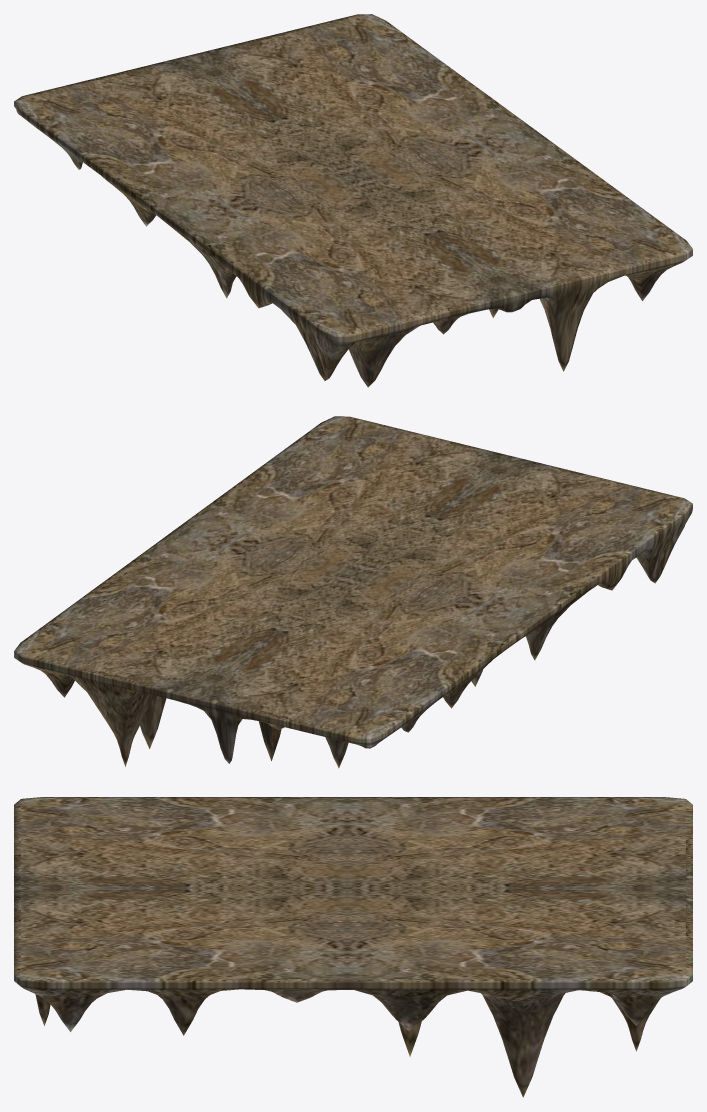
The model's file is Stalactite2_ver2.FBX.
3 renders of one model, top to bottom at view 1: azimuth 30°, elevation 25°; view 2: azimuth 150°, elevation 25°; view 3: azimuth 270°, elevation 25°, orthographic. The views are drawn at different scales.
Visible parts, largest first — view 1: Stalagmite_02; view 2: Stalagmite_02; view 3: Stalagmite_02.
Part boxes in pixels (<box>): Stalagmite_02: <box>14,14,692,387</box>; Stalagmite_02: <box>14,416,692,768</box>; Stalagmite_02: <box>14,797,692,1097</box>.
Size of the model in its own units: 58.07 by 21.68 by 90.12.
1 material, 1 textured.
